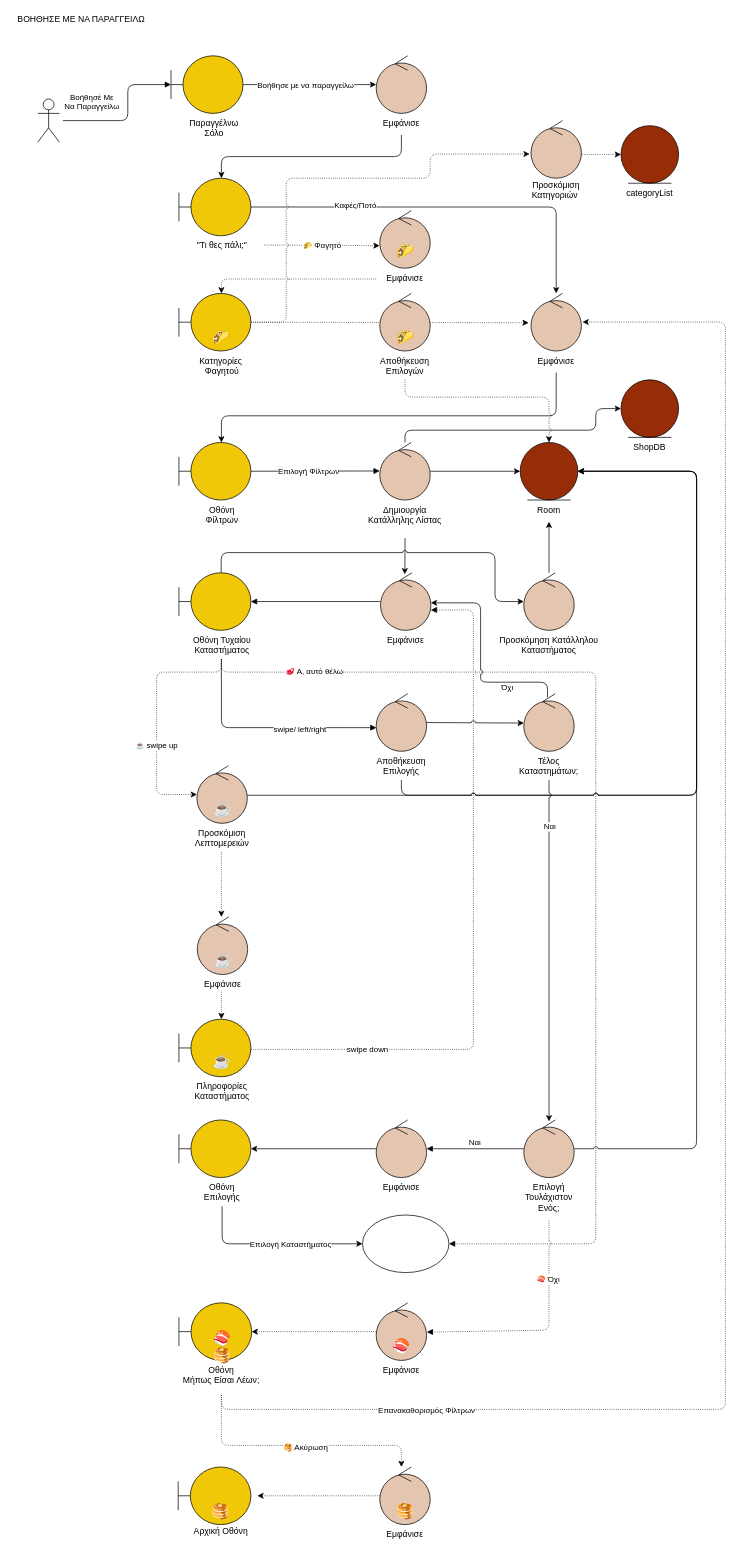
Image size: 744x1558. Some labels were removed from this diagram. The shapes that lost their labels are listed below. From the top down, each one's centre as x and y in pixels, then its label:
point (48, 120): Πελάτης
point (405, 1243): Παραγγελία
